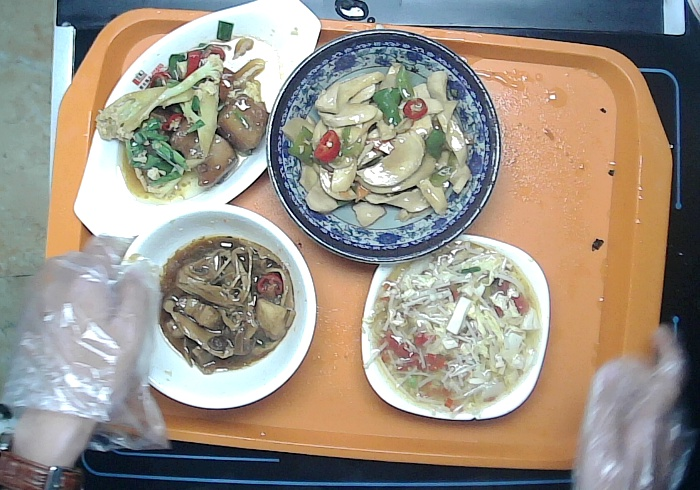ZNLD-Qing_Hua_Wan: (265, 28, 502, 263)
ZNLD-Si_Fang_Wan: (361, 232, 552, 424)
ZNLD-Tang_Wan: (117, 199, 317, 410)
ZNLD-Yu_Pan: (71, 1, 322, 233)
